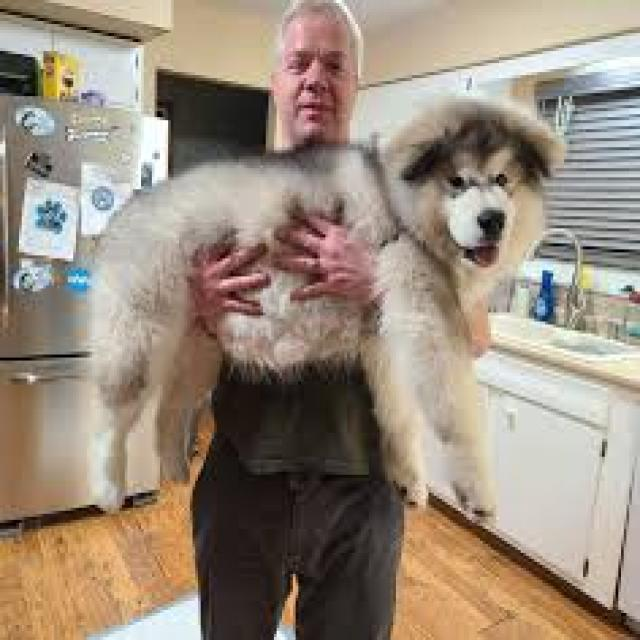ALASKAN_MALAMUTE: (75, 74, 582, 536)
